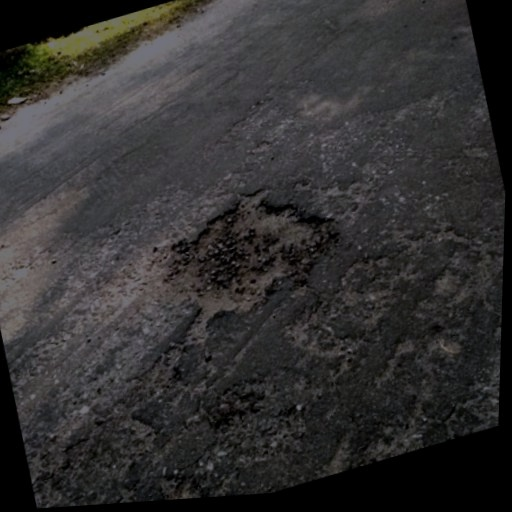pothole: (134, 164, 354, 341), (91, 467, 213, 505)
